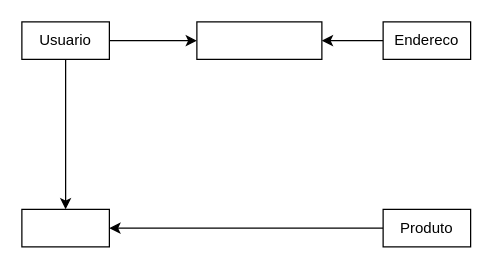
Some shapes in this 493 by 269 pixel diagram are drawn without their labels. Here are the shapes that lost their labels. From the top down, the box of each, then its label:
(196, 21, 322, 59): ListaEndereco
(21, 208, 109, 247): Pedido
